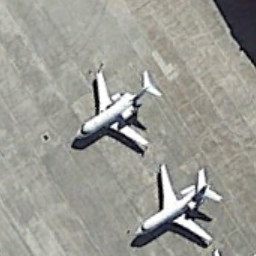Airplane: (122, 160, 235, 253), (60, 56, 160, 159)
